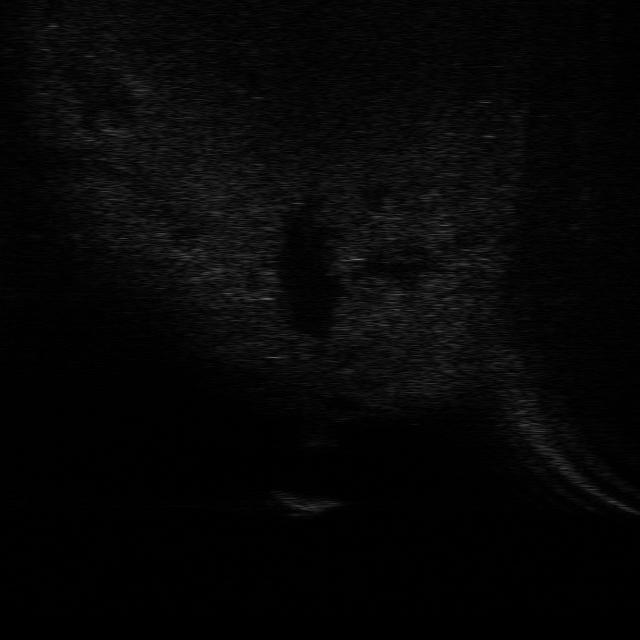cube: (268, 488, 340, 520)
